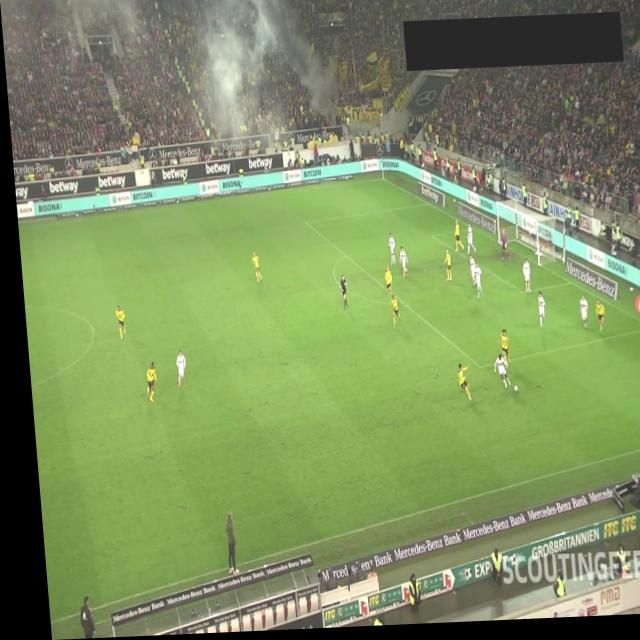goalkeeper: (494, 232, 506, 265)
player: (486, 357, 504, 394), (450, 366, 465, 406), (138, 363, 152, 403), (492, 333, 505, 370), (109, 305, 122, 341), (169, 351, 181, 389), (460, 225, 473, 259), (448, 222, 460, 256), (589, 303, 601, 337), (573, 298, 584, 335), (468, 266, 478, 304), (531, 295, 541, 333), (385, 297, 396, 331), (246, 253, 257, 287), (517, 262, 527, 298), (393, 249, 404, 281), (382, 236, 393, 268), (378, 268, 388, 302), (439, 251, 448, 285), (465, 258, 473, 290)
referee: (334, 277, 343, 313)
